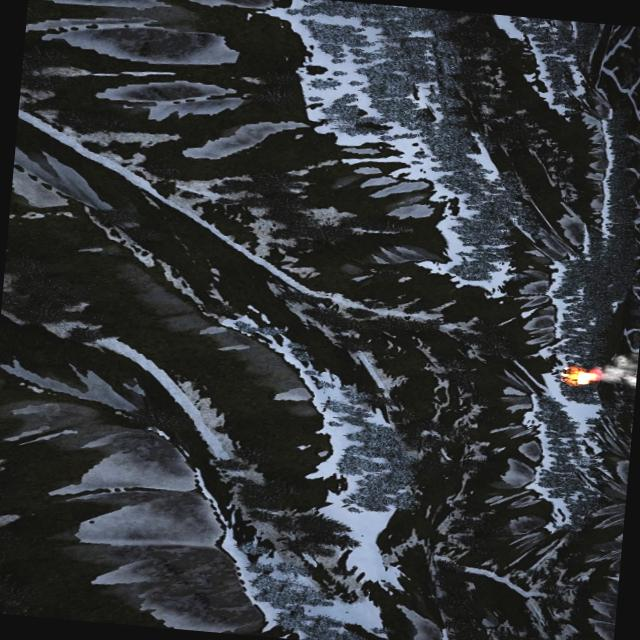fire: (561, 367, 597, 387)
smoke: (598, 348, 638, 392)
